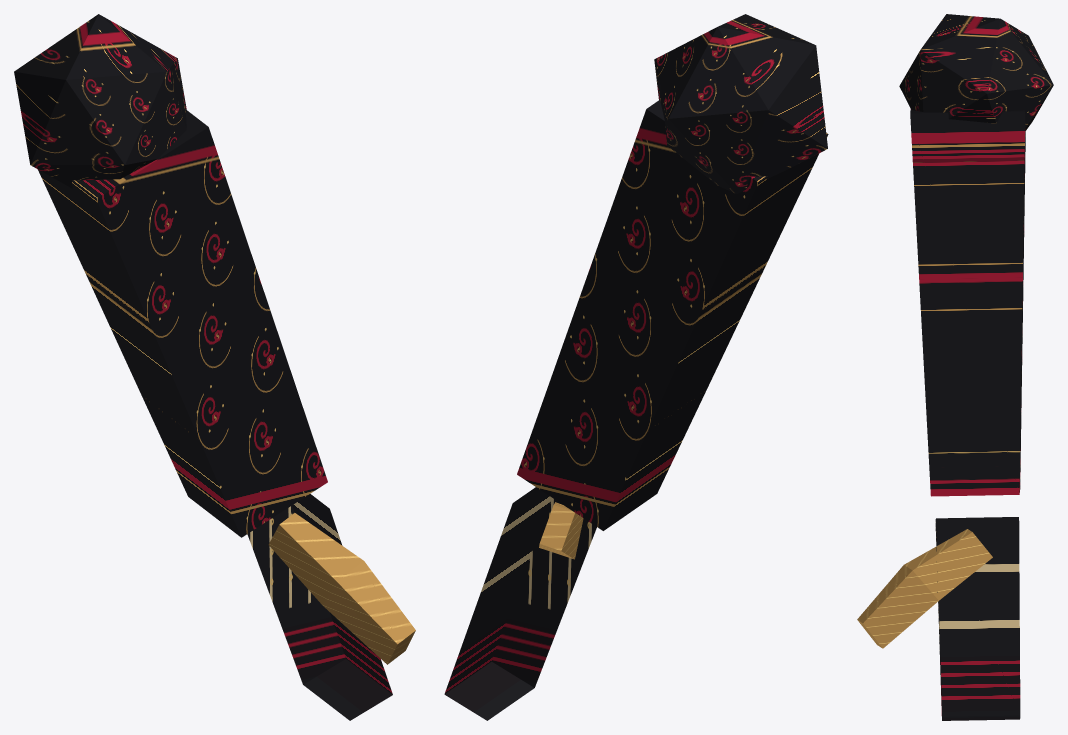
File: Fermin_AntebrazoIzq.obj
3 views of the same model, side by side, from view 1: azimuth 30°, elevation 25°; view 2: azimuth 150°, elevation 25°; view 3: azimuth 270°, elevation 25° (orthographic). The views are drawn at different scales.
Parts seen in each view (by area): view 1: Cube_009_color_fabric, Icosphere_002_color_fabric, Cube_010_color_hands, Cube_011_color_gold; view 2: Cube_009_color_fabric, Icosphere_002_color_fabric, Cube_010_color_hands, Cube_011_color_gold; view 3: Cube_009_color_fabric, Cube_010_color_hands, Icosphere_002_color_fabric, Cube_011_color_gold.
Boxes of the visible parts, <box> form: Cube_009_color_fabric: <box>38,109,327,537</box>; Icosphere_002_color_fabric: <box>14,14,186,188</box>; Cube_010_color_hands: <box>247,494,392,720</box>; Cube_011_color_gold: <box>268,513,415,664</box>; Cube_009_color_fabric: <box>517,100,828,530</box>; Icosphere_002_color_fabric: <box>654,14,827,193</box>; Cube_010_color_hands: <box>444,487,596,720</box>; Cube_011_color_gold: <box>539,502,583,559</box>; Cube_009_color_fabric: <box>910,109,1025,496</box>; Cube_010_color_hands: <box>935,517,1020,720</box>; Icosphere_002_color_fabric: <box>899,14,1053,130</box>; Cube_011_color_gold: <box>857,529,992,648</box>.
Bounding box in the file's own units: 1.01 × 2.03 × 0.5945.
Materials: 3 (3 with a texture image).
